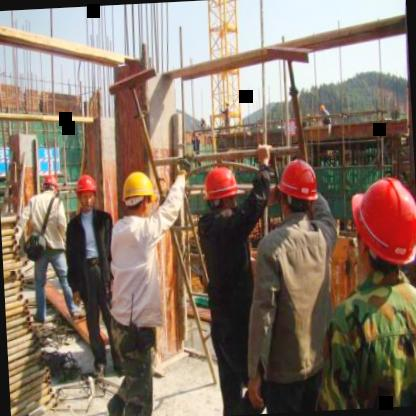helmet: (346, 169, 416, 291), (273, 154, 322, 223), (199, 162, 242, 216), (118, 166, 158, 223), (74, 170, 99, 213), (38, 167, 60, 202)
